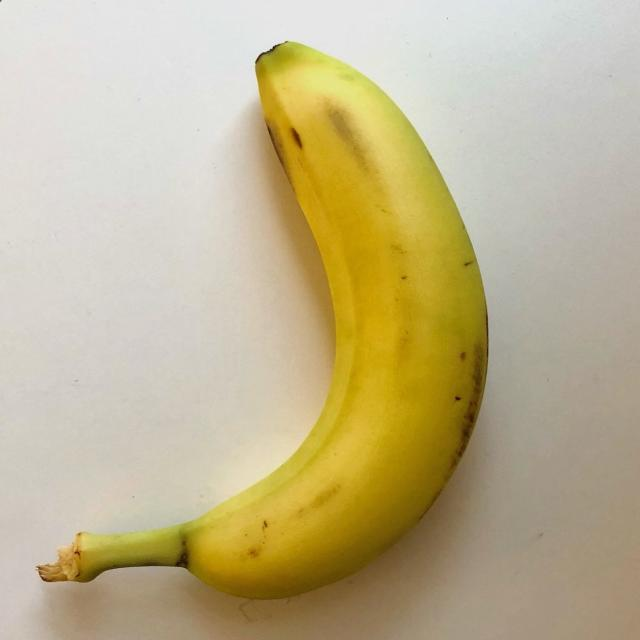Banana: (58, 38, 493, 608)
